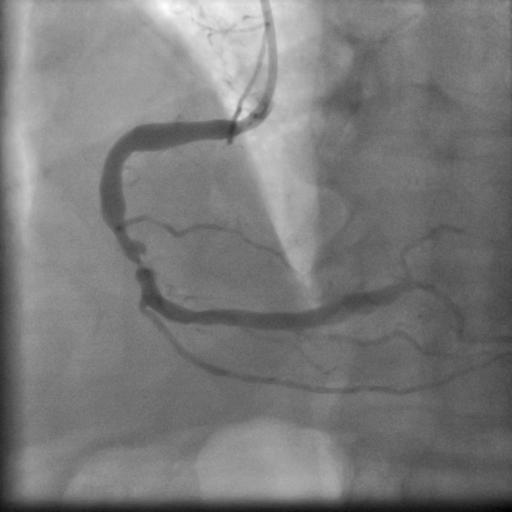Stenosis: (112, 237, 159, 283)
